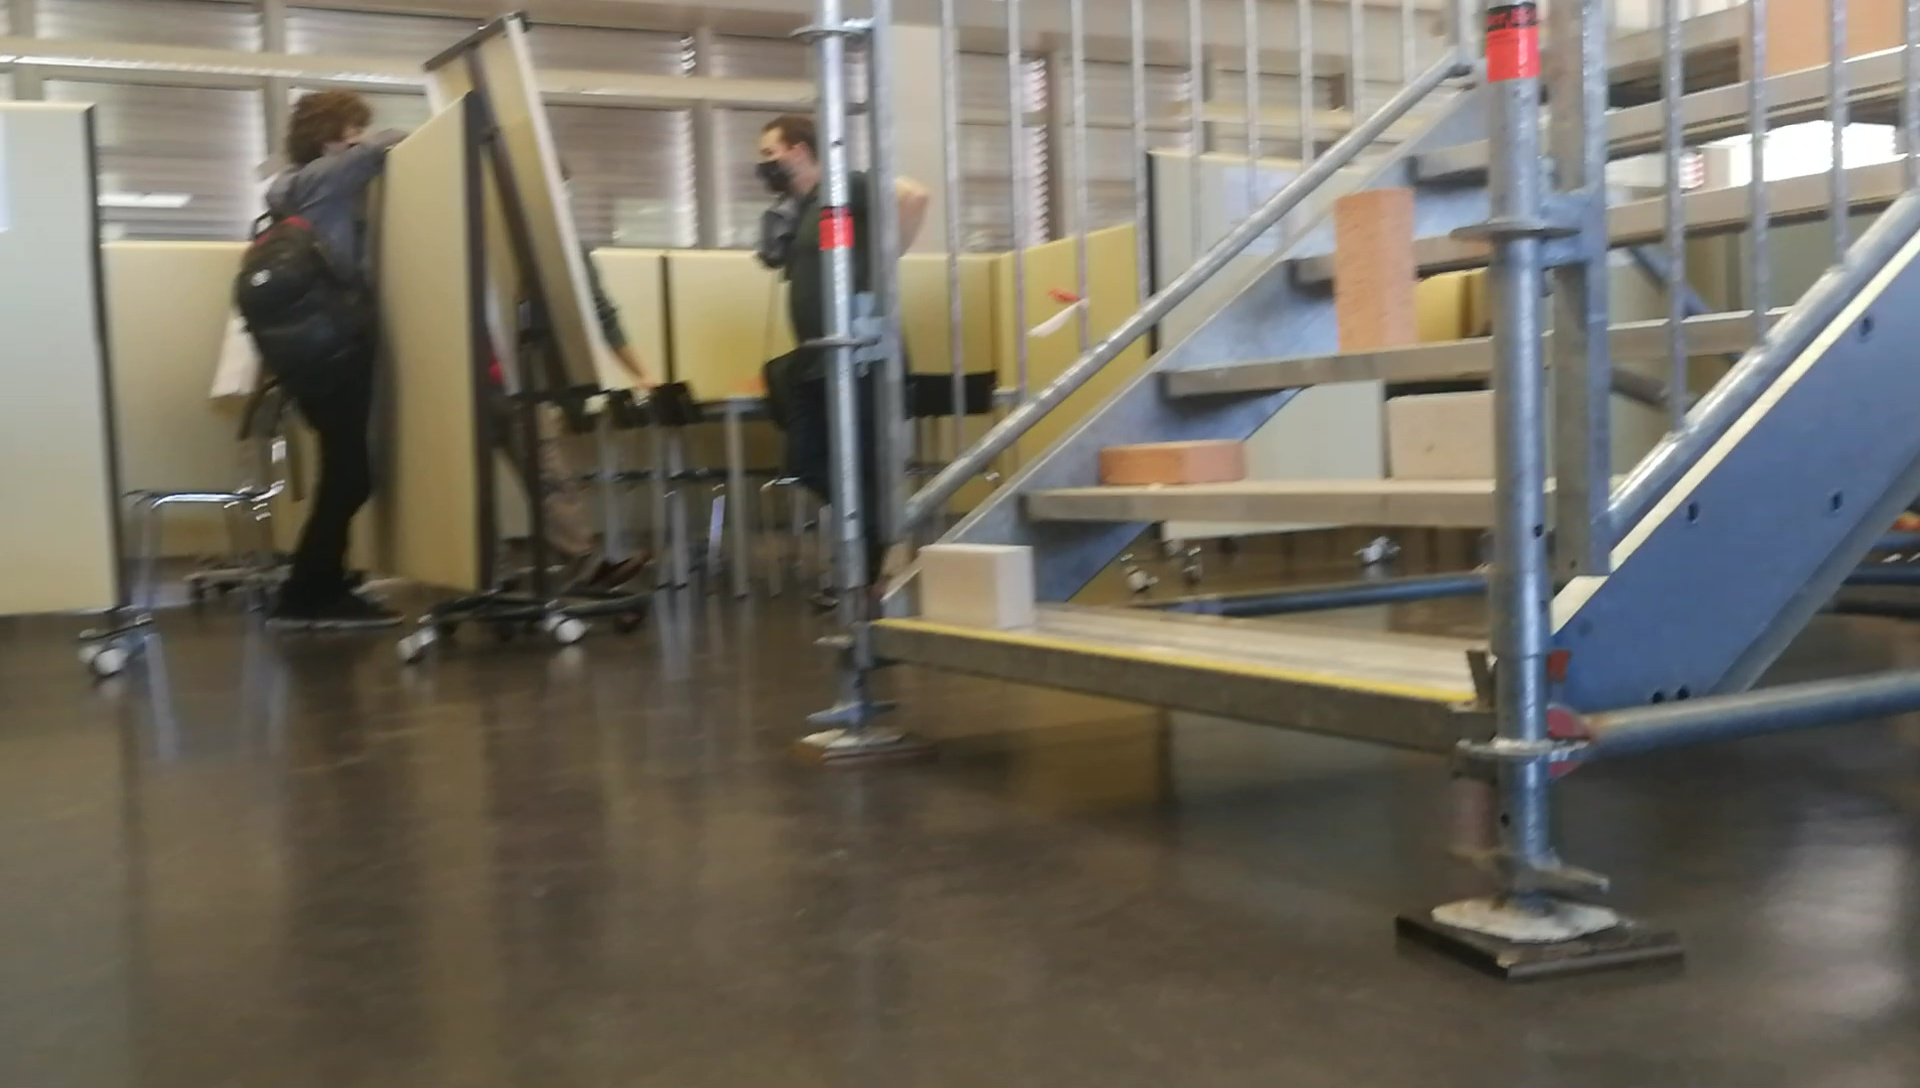brick: (1336, 189, 1410, 348), (1390, 393, 1490, 483), (919, 546, 1033, 625), (1102, 440, 1241, 481)
edge: (874, 617, 1452, 754)
stairs: (785, 0, 1543, 985)
